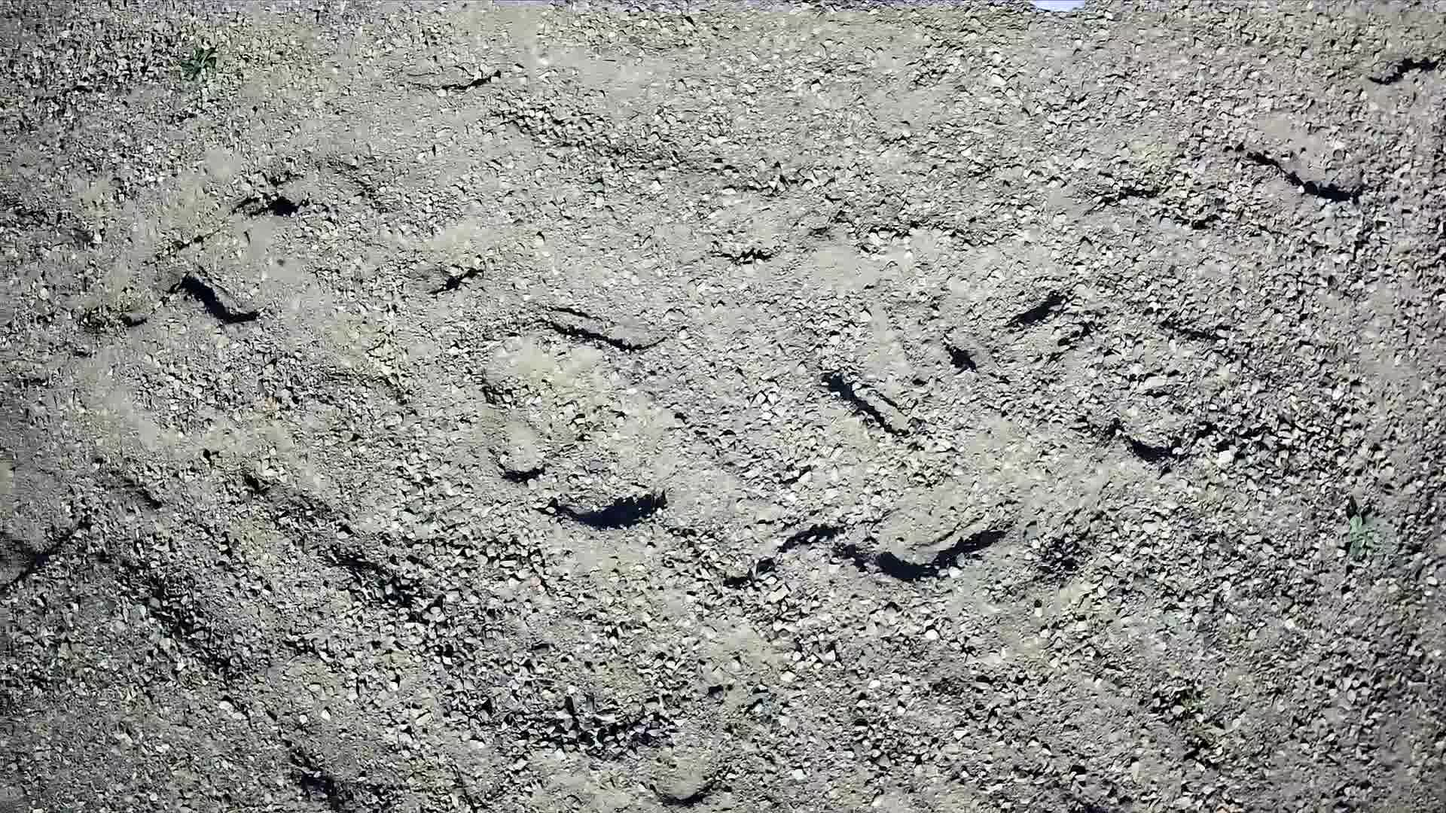Target: (1030, 0, 1088, 11)
